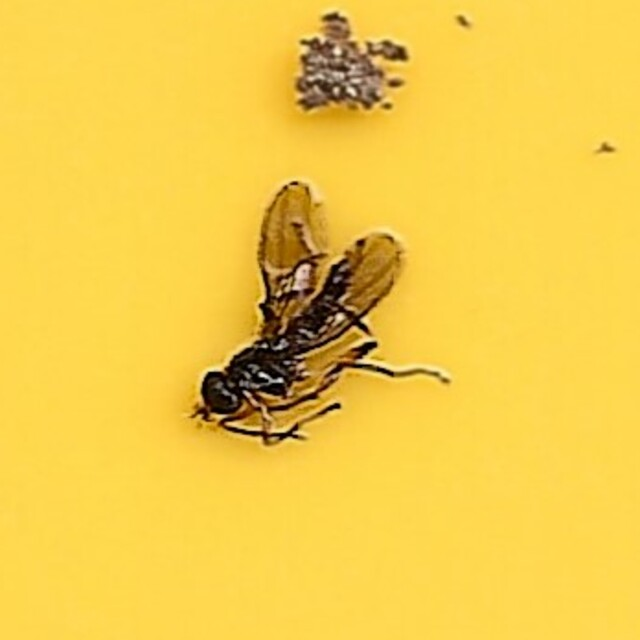Brachycera: (184, 185, 456, 455)
